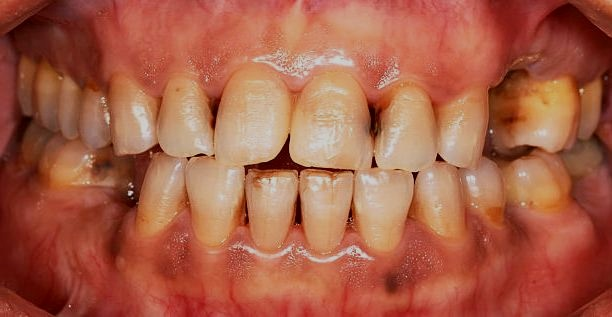Gingivitis: (150, 228, 200, 289), (379, 253, 437, 300), (99, 213, 133, 272)
